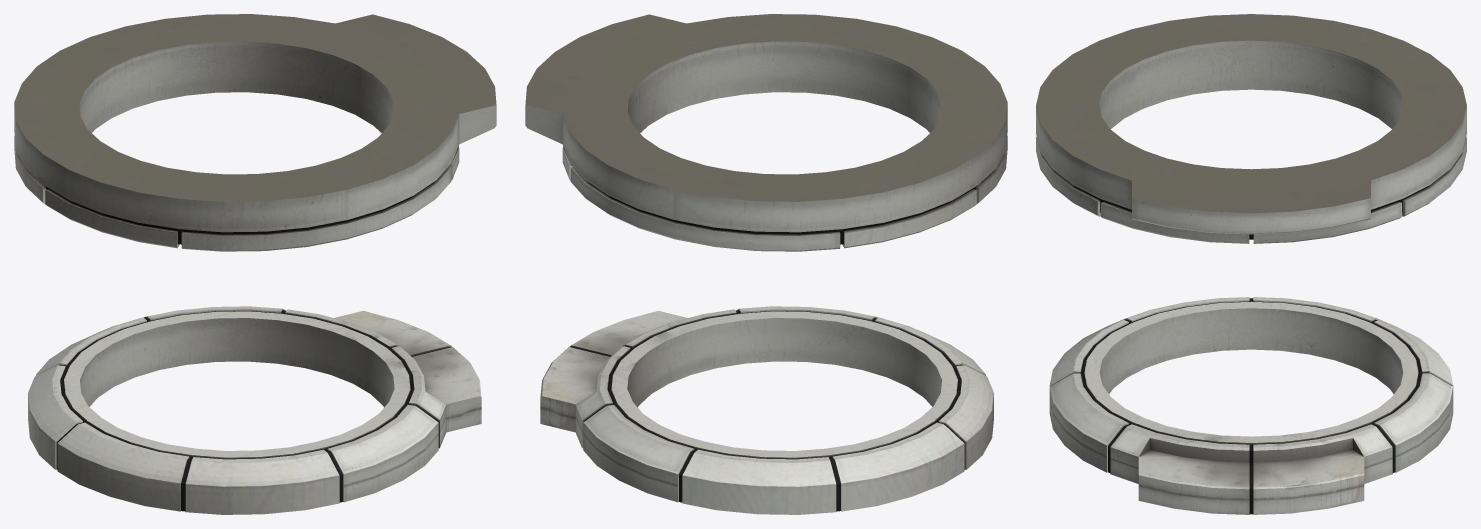
Rendered from elevator_caps.glb.
The picture shows the model from 3 angles, left to right: view 1: azimuth 30°, elevation 25°; view 2: azimuth 150°, elevation 25°; view 3: azimuth 270°, elevation 25°; orthographic projection. The views are drawn at different scales.
Visible parts, largest first — view 1: elevator_caps_elevator_caps_reference; view 2: elevator_caps_elevator_caps_reference; view 3: elevator_caps_elevator_caps_reference.
Boxes of the visible parts, x1,y1,x2,y2 form: elevator_caps_elevator_caps_reference: (14, 14, 496, 514); elevator_caps_elevator_caps_reference: (525, 14, 1007, 514); elevator_caps_elevator_caps_reference: (1036, 14, 1466, 514).
Size of the model in its own units: 5.34 by 3.85 by 4.88.
1 material, 1 textured.
